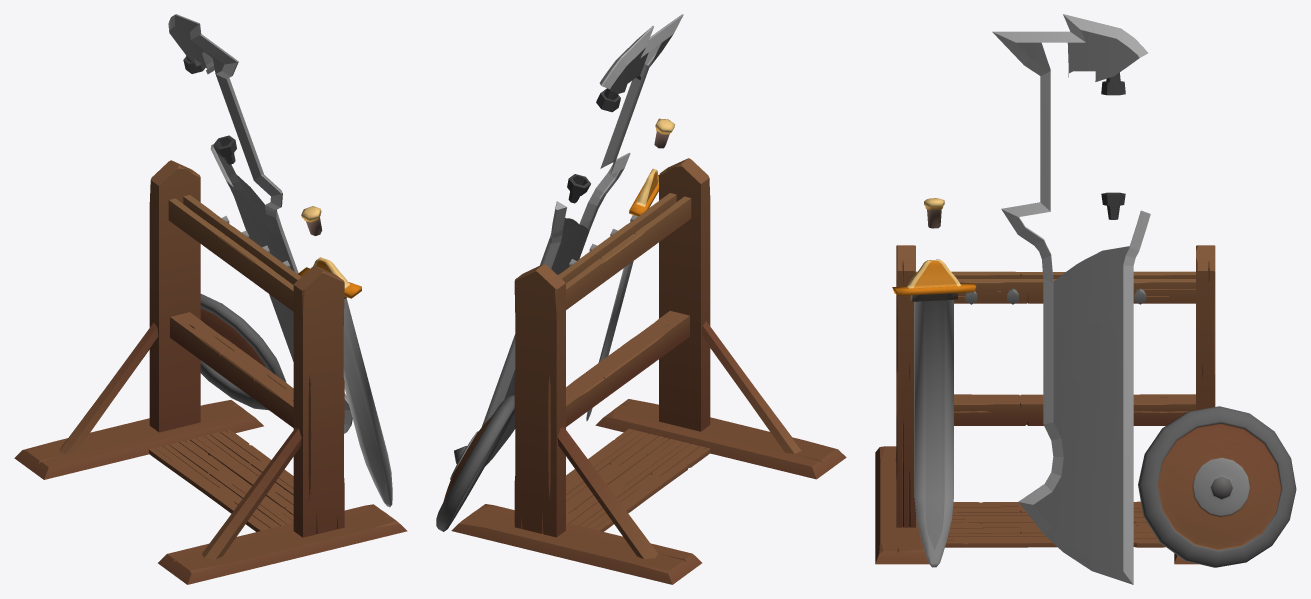
File: obj_stand.003.fbx
3 renders of one model, left to right at view 1: azimuth 30°, elevation 25°; view 2: azimuth 150°, elevation 25°; view 3: azimuth 270°, elevation 25°, orthographic. The views are drawn at different scales.
Parts seen in each view (by area): view 1: Cube.019; view 2: Cube.019; view 3: Cube.019.
Boxes of the visible parts, x1,y1,x2,y2 form: Cube.019: (14, 14, 407, 584); Cube.019: (436, 14, 846, 584); Cube.019: (875, 14, 1296, 584).
Size of the model in its own units: 1004 by 1748 by 1356.
